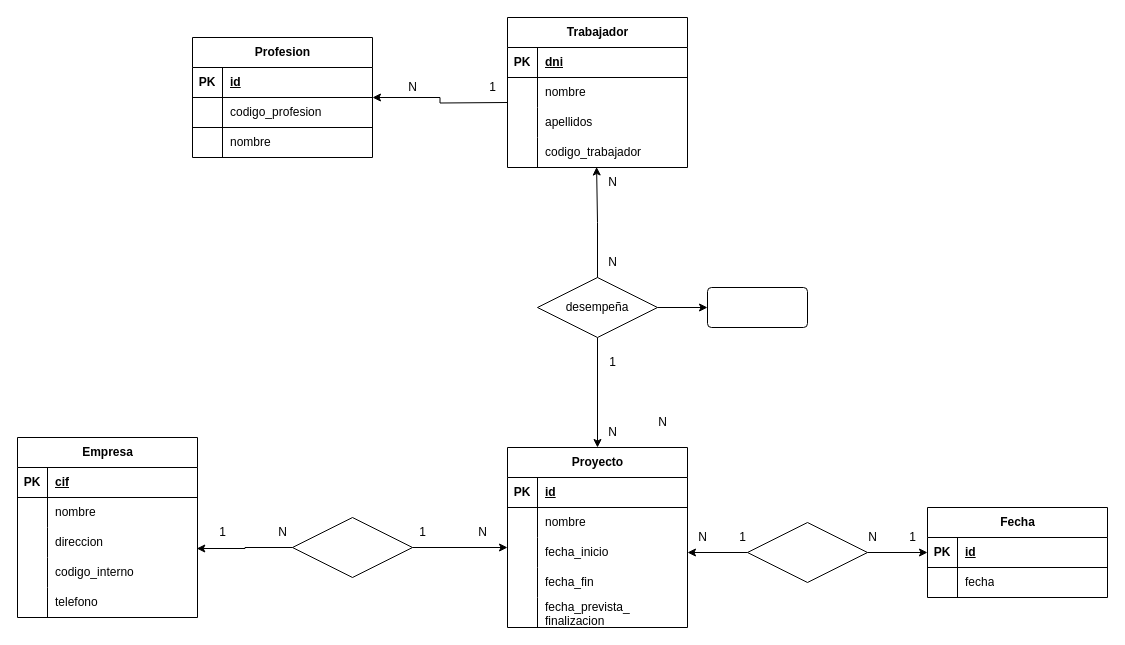
Image size: 1125x645. Some labels were removed from this diagram. The shapes that lost their labels are listed below. From the top down, each one's centre as x and y in pixels, then its label:
At (x=757, y=307): "horas_trabajadas".
At (x=352, y=547): "realiza".
At (x=807, y=552): "associa".
